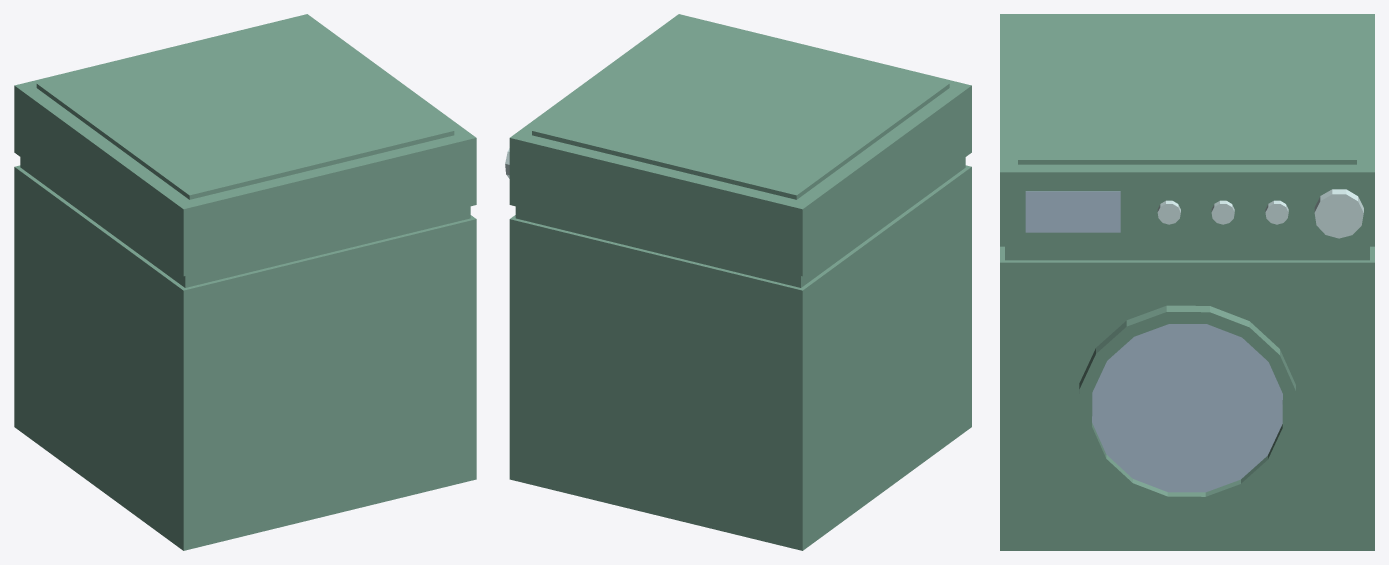
Rendered from WashingMachine.fbx.
The picture shows the model from 3 angles, left to right: view 1: azimuth 30°, elevation 25°; view 2: azimuth 150°, elevation 25°; view 3: azimuth 270°, elevation 25°; orthographic projection. The views are drawn at different scales.
Visible parts, largest first — view 1: WashingMachine; view 2: WashingMachine; view 3: WashingMachine.
Part boxes in pixels (bbox=[...]): WashingMachine: bbox=[14, 14, 476, 550]; WashingMachine: bbox=[505, 14, 971, 550]; WashingMachine: bbox=[1000, 14, 1374, 550].
Size of the model in its own units: 208 by 226 by 200.
